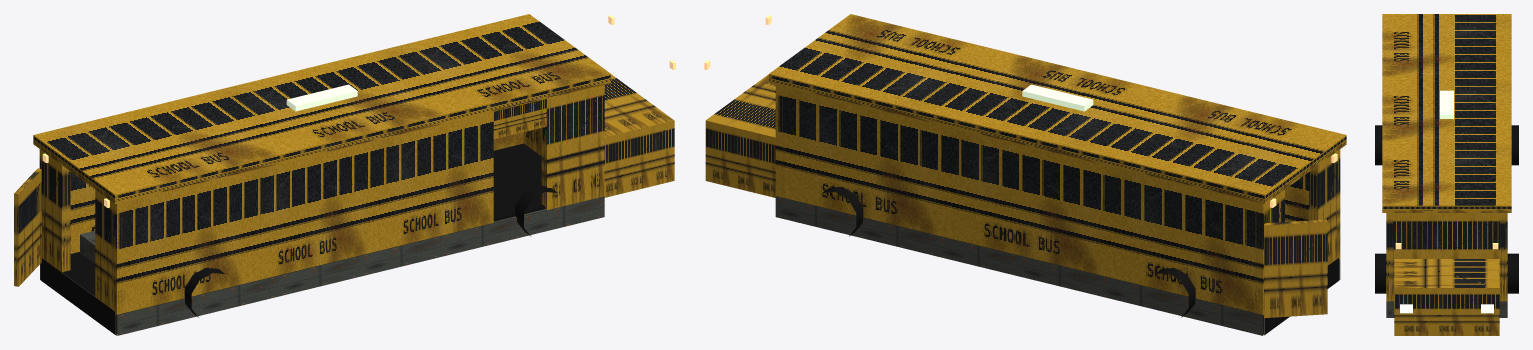
File: bus.glb
3 views of the same model, side by side, from view 1: azimuth 30°, elevation 25°; view 2: azimuth 150°, elevation 25°; view 3: azimuth 270°, elevation 25° (orthographic). The views are drawn at different scales.
Visible parts, largest first — view 1: bus_003, bus_002, bus_004, bus_001; view 2: bus_003, bus_002, bus_004, bus_001; view 3: bus_003, bus_004, bus_001, bus_002, bus_006.
Boxes of the visible parts, x1,y1,x2,y2 form: bus_003: [14, 14, 674, 314]; bus_002: [40, 196, 604, 335]; bus_004: [41, 143, 557, 334]; bus_001: [286, 84, 357, 111]; bus_003: [705, 14, 1346, 318]; bus_002: [775, 196, 1340, 335]; bus_004: [777, 187, 1338, 334]; bus_001: [1022, 84, 1093, 111]; bus_003: [1382, 14, 1511, 335]; bus_004: [1375, 125, 1518, 293]; bus_001: [1440, 90, 1453, 118]; bus_002: [1386, 301, 1507, 317]; bus_006: [1400, 304, 1493, 313].
Bounding box in the file's own units: 13.77 × 3.3 × 3.55.
Materials: 7 (2 with a texture image).
